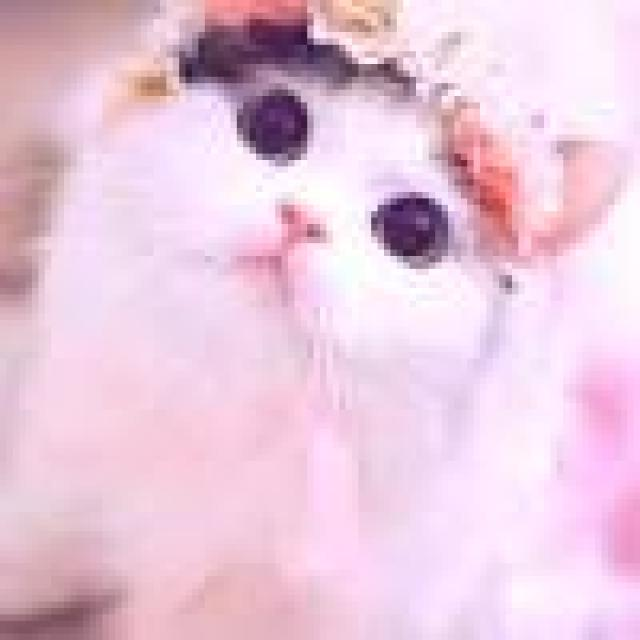Cat: (0, 2, 631, 640)
